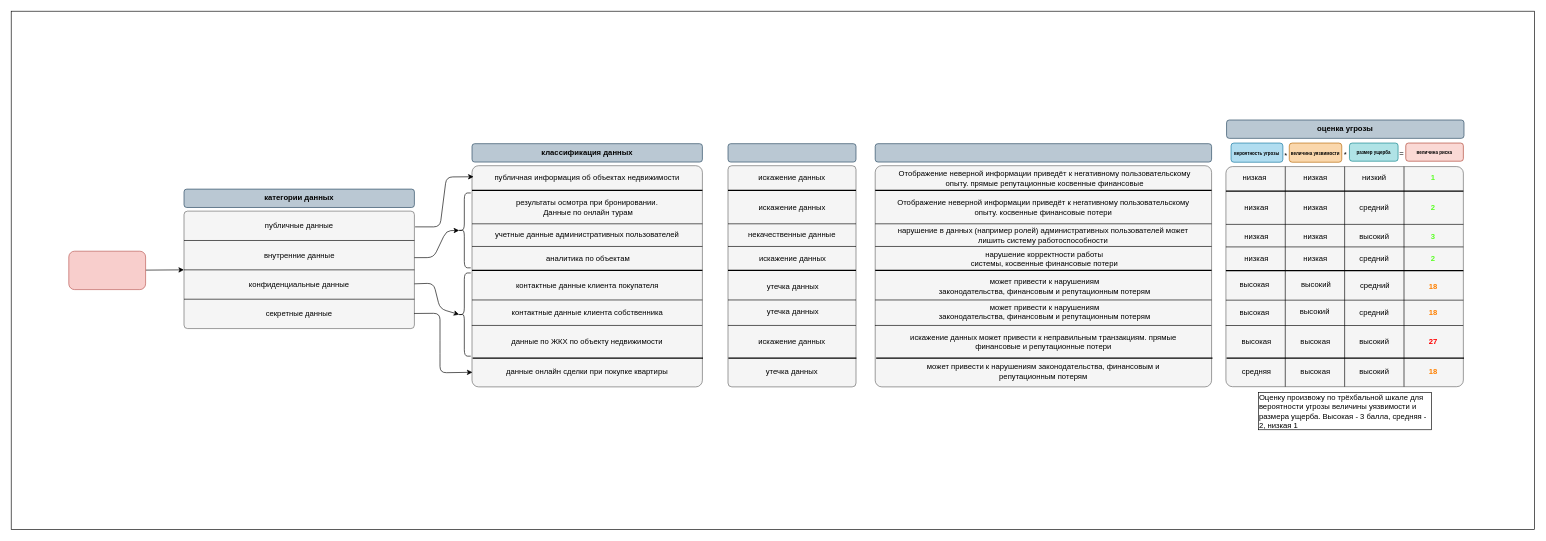
Some shapes in this 1546 by 541 pixel diagram are drawn without their labels. The centre of each missing label's shape, as x and y in pixels:
безопасность данных: (107,270)
комментарий: (1043,152)
типы рисков: (791,152)
